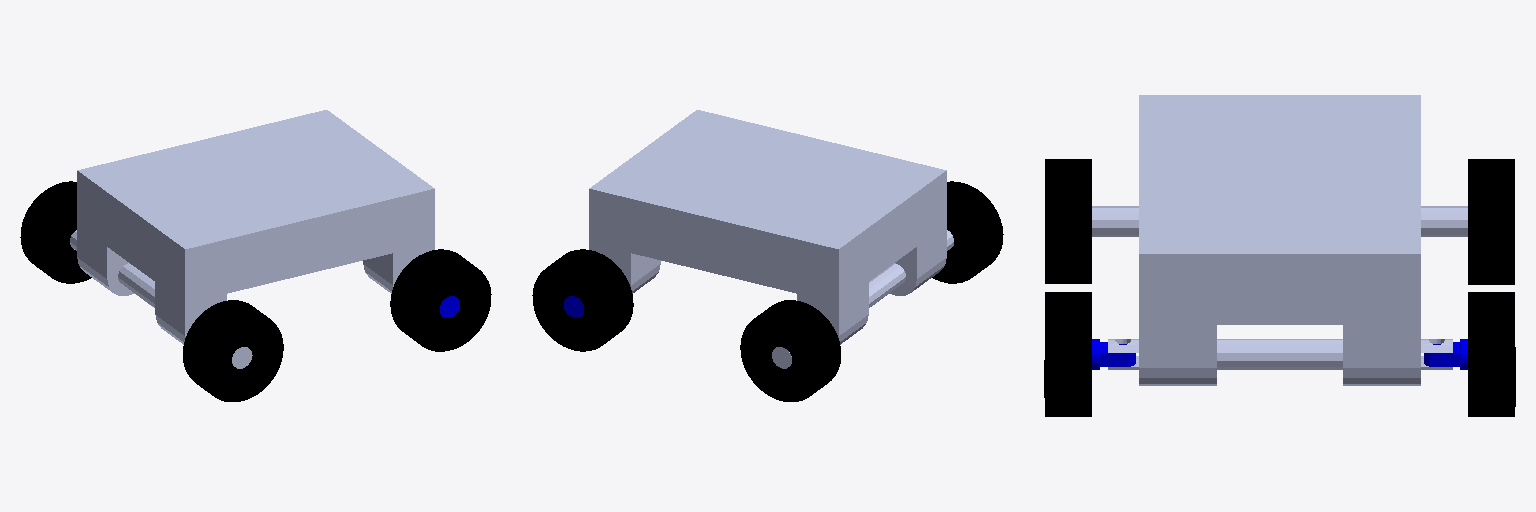
robot.urdf — simple_car_1:
<?xml version="1.0" encoding="utf-8"?>
<!-- This URDF was automatically created by SolidWorks to URDF Exporter! Originally created by [author] ([email redacted]) 
     Commit Version: 1.6.0-1-g15f4949  Build Version: 1.6.7594.29634
     For more information, please see http://wiki.ros.org/sw_urdf_exporter -->
<robot
  name="simple_car_1">
  <link name="dummy">
  </link>
  <joint name="dummy_joint" type="fixed">
    <parent link="dummy"/>
    <child link="base_link"/>
  </joint>
  <link
    name="base_link">
    <inertial>
      <origin
        xyz="-0.00332460565658627 1.58676196071461E-08 0.041560079075296"
        rpy="0 0 0" />
      <mass
        value="42.8861348655346" />
      <inertia
        ixx="1.00588271538571"
        ixy="-1.46408273025479E-07"
        ixz="-0.0167901751526591"
        iyy="1.73667960585585"
        iyz="5.80765070709865E-08"
        izz="2.43688572871735" />
    </inertial>
    <visual>
      <origin
        xyz="0 0 0"
        rpy="0 0 0" />
      <geometry>
        <mesh
          filename="package://simple_car_1/meshes/base_link.STL" />
      </geometry>
      <material
        name="">
        <color
          rgba="0.792156862745098 0.819607843137255 0.933333333333333 1" />
      </material>
    </visual>
    <collision>
      <origin
        xyz="0 0 0"
        rpy="0 0 0" />
      <geometry>
        <mesh
          filename="package://simple_car_1/meshes/base_link.STL" />
      </geometry>
    </collision>
  </link>
  <link
    name="S_R">
    <inertial>
      <origin
        xyz="0.0683552158020454 0.00119688729774237 -2.83106871279415E-15"
        rpy="0 0 0" />
      <mass
        value="0.225860858102532" />
      <inertia
        ixx="6.78977829710827E-05"
        ixy="-4.82166445850817E-06"
        ixz="-3.09292498343065E-19"
        iyy="0.000343182570643455"
        iyz="-5.50199363756215E-21"
        izz="0.000348044864929136" />
    </inertial>
    <visual>
      <origin
        xyz="0 0 0"
        rpy="0 0 0" />
      <geometry>
        <mesh
          filename="package://simple_car_1/meshes/S_R.STL" />
      </geometry>
      <material
        name="">
        <color
          rgba="0 0 1 1" />
      </material>
    </visual>
    <collision>
      <origin
        xyz="0 0 0"
        rpy="0 0 0" />
      <geometry>
        <mesh
          filename="package://simple_car_1/meshes/S_R.STL" />
      </geometry>
    </collision>
  </link>
  <joint
    name="SR_Joint"
    type="revolute">
    <origin
      xyz="0.254000000000007 -0.254 -0.0762000000000029"
      rpy="0 0 -1.59384943873931" />
    <parent
      link="base_link" />
    <child
      link="S_R" />
    <axis
      xyz="0 0 1" />
    <limit
      lower="-1"
      upper="1"
      effort="1000"
      velocity="1000" />
  </joint>
  <link
    name="Wheel_FR">
    <inertial>
      <origin
        xyz="-0.0011093843075205 0.00109160341947936 0.0380458860342316"
        rpy="0 0 0" />
      <mass
        value="2.31666659443376" />
      <inertia
        ixx="0.00747391772869096"
        ixy="-8.01571740731554E-07"
        ixz="-6.52698636700994E-05"
        iyy="0.00747389182470713"
        iyz="6.42237373359677E-05"
        izz="0.0127026719178023" />
    </inertial>
    <visual>
      <origin
        xyz="0 0 0"
        rpy="0 0 0" />
      <geometry>
        <mesh
          filename="package://simple_car_1/meshes/Wheel_FR.STL" />
      </geometry>
      <material
        name="">
        <color
          rgba="0 0 0 1" />
      </material>
    </visual>
    <collision>
      <origin
        xyz="0 0 0"
        rpy="0 0 0" />
      <geometry>
        <mesh
          filename="package://simple_car_1/meshes/Wheel_FR.STL" />
      </geometry>
    </collision>
  </link>
  <joint
    name="WFR"
    type="continuous">
    <origin
      xyz="0.0508404890096035 0 0"
      rpy="-1.5707963267949 0.777319744318453 -1.5707963267949" />
    <parent
      link="S_R" />
    <child
      link="Wheel_FR" />
    <axis
      xyz="0 0 1" />
  </joint>
  <link
    name="S_L">
    <inertial>
      <origin
        xyz="0.0683656830546928 -3.80399174700896E-05 0"
        rpy="0 0 0" />
      <mass
        value="0.225860858102532" />
      <inertia
        ixx="6.78134417911135E-05"
        ixy="1.53267400130195E-07"
        ixz="4.13476612842137E-22"
        iyy="0.000343266911823424"
        iyz="-4.31100267529608E-23"
        izz="0.000348044864929136" />
    </inertial>
    <visual>
      <origin
        xyz="0 0 0"
        rpy="0 0 0" />
      <geometry>
        <mesh
          filename="package://simple_car_1/meshes/S_L.STL" />
      </geometry>
      <material
        name="">
        <color
          rgba="0 0 1 1" />
      </material>
    </visual>
    <collision>
      <origin
        xyz="0 0 0"
        rpy="0 0 0" />
      <geometry>
        <mesh
          filename="package://simple_car_1/meshes/S_L.STL" />
      </geometry>
    </collision>
  </link>
  <joint
    name="SL_Joint"
    type="revolute">
    <origin
      xyz="0.25399999999996 0.253999999999836 -0.0762"
      rpy="0 0 1.57346784124955" />
    <parent
      link="base_link" />
    <child
      link="S_L" />
    <axis
      xyz="0 0 1" />
    <limit
      lower="-1"
      upper="1"
      effort="1000"
      velocity="1000" />
  </joint>
  <link
    name="Wheel_FL">
    <inertial>
      <origin
        xyz="-2.20509283793691E-06 4.94164054692936E-05 -0.0386664950496765"
        rpy="0 0 0" />
      <mass
        value="2.31666659443376" />
      <inertia
        ixx="0.00747310310354289"
        ixy="-7.21262781980466E-11"
        ixz="1.29754988760008E-07"
        iyy="0.0074731047166833"
        iyz="-2.90782547822008E-06"
        izz="0.0127042736509742" />
    </inertial>
    <visual>
      <origin
        xyz="0 0 0"
        rpy="0 0 0" />
      <geometry>
        <mesh
          filename="package://simple_car_1/meshes/Wheel_FL.STL" />
      </geometry>
      <material
        name="">
        <color
          rgba="0 0 0 1" />
      </material>
    </visual>
    <collision>
      <origin
        xyz="0 0 0"
        rpy="0 0 0" />
      <geometry>
        <mesh
          filename="package://simple_car_1/meshes/Wheel_FL.STL" />
      </geometry>
    </collision>
  </link>
  <joint
    name="WFL"
    type="continuous">
    <origin
      xyz="0.0502334911887114 0 0"
      rpy="-1.57079632679487 1.52620322090237 1.57079632679492" />
    <parent
      link="S_L" />
    <child
      link="Wheel_FL" />
    <axis
      xyz="0 0 1" />
  </joint>
  <link
    name="Wheel_BR">
    <inertial>
      <origin
        xyz="0 0 0.0381000000000001"
        rpy="0 0 0" />
      <mass
        value="2.31666659443376" />
      <inertia
        ixx="0.00747310310032443"
        ixy="-4.33680868994202E-19"
        ixz="1.52641837812297E-19"
        iyy="0.00747310310032443"
        iyz="-3.17947464336863E-20"
        izz="0.0127042752705515" />
    </inertial>
    <visual>
      <origin
        xyz="0 0 0"
        rpy="0 0 0" />
      <geometry>
        <mesh
          filename="package://simple_car_1/meshes/Wheel_BR.STL" />
      </geometry>
      <material
        name="">
        <color
          rgba="0 0 0 1" />
      </material>
    </visual>
    <collision>
      <origin
        xyz="0 0 0"
        rpy="0 0 0" />
      <geometry>
        <mesh
          filename="package://simple_car_1/meshes/Wheel_BR.STL" />
      </geometry>
    </collision>
  </link>
  <joint
    name="WBR"
    type="continuous">
    <origin
      xyz="-0.254 -0.3048 -0.0762000000000036"
      rpy="1.5707963267949 -1.28782237474481 0" />
    <parent
      link="base_link" />
    <child
      link="Wheel_BR" />
    <axis
      xyz="0 0 1" />
  </joint>
  <link
    name="Wheel_BL">
    <inertial>
      <origin
        xyz="-1.11022302462516E-16 2.77555756156289E-17 0.0381"
        rpy="0 0 0" />
      <mass
        value="2.31666659443376" />
      <inertia
        ixx="0.00747310310032442"
        ixy="2.71050543121376E-20"
        ixz="2.75908916846999E-19"
        iyy="0.00747310310032442"
        iyz="-2.95060764470901E-21"
        izz="0.0127042752705515" />
    </inertial>
    <visual>
      <origin
        xyz="0 0 0"
        rpy="0 0 0" />
      <geometry>
        <mesh
          filename="package://simple_car_1/meshes/Wheel_BL.STL" />
      </geometry>
      <material
        name="">
        <color
          rgba="0 0 0 1" />
      </material>
    </visual>
    <collision>
      <origin
        xyz="0 0 0"
        rpy="0 0 0" />
      <geometry>
        <mesh
          filename="package://simple_car_1/meshes/Wheel_BL.STL" />
      </geometry>
    </collision>
  </link>
  <joint
    name="WBL"
    type="continuous">
    <origin
      xyz="-0.254 0.381 -0.0762000000000034"
      rpy="-1.5707963267949 1.51907124574579 3.14159265358979" />
    <parent
      link="base_link" />
    <child
      link="Wheel_BL" />
    <axis
      xyz="0 0 1" />
  </joint>
  <transmission name="RWD_Right">
    <type>transmission_interface/SimpleTransmission</type>
    <joint name="WBR">
      <hardwareInterface>hardware_interface/VelocityJointInterface</hardwareInterface>
    </joint>
    <actuator name="RWD_Right_Motor">
      <mechanicalReduction>50</mechanicalReduction>
      <hardwareInterface>hardware_interface/VelocityJointInterface</hardwareInterface>
    </actuator>
  </transmission>
  <transmission name="RWD_Left">
    <type>transmission_interface/SimpleTransmission</type>
    <joint name="WBL">
      <hardwareInterface>hardware_interface/VelocityJointInterface</hardwareInterface>
    </joint>
    <actuator name="RWD_Left_Motor">
      <mechanicalReduction>50</mechanicalReduction>
      <hardwareInterface>hardware_interface/VelocityJointInterface</hardwareInterface>
    </actuator>
  </transmission>
  <transmission name="FD_R">
    <type>transmission_interface/SimpleTransmission</type>
    <joint name="WFR">
      <hardwareInterface>hardware_interface/EffortJointInterface</hardwareInterface>
    </joint>
    <actuator name="FD_R_Motor">
      <mechanicalReduction>1</mechanicalReduction>
      <hardwareInterface>hardware_interface/EffortJointInterface</hardwareInterface>
    </actuator>
  </transmission>
  <transmission name="FD_L">
    <type>transmission_interface/SimpleTransmission</type>
    <joint name="WFL">
      <hardwareInterface>hardware_interface/EffortJointInterface</hardwareInterface>
    </joint>
    <actuator name="FD_L_Motor">
      <mechanicalReduction>1</mechanicalReduction>
      <hardwareInterface>hardware_interface/EffortJointInterface</hardwareInterface>
    </actuator>
  </transmission>
  <transmission name="Steer_Left">
    <type>transmission_interface/SimpleTransmission</type>
    <joint name="SL_Joint">
      <hardwareInterface>hardware_interface/PositionJointInterface</hardwareInterface>
    </joint>
    <actuator name="SL_Motor">
      <mechanicalReduction>50</mechanicalReduction>
      <hardwareInterface>hardware_interface/PositionJointInterface</hardwareInterface>
    </actuator>
  </transmission>
  <transmission name="Steer_Right">
    <type>transmission_interface/SimpleTransmission</type>
    <joint name="SR_Joint">
      <hardwareInterface>hardware_interface/PositionJointInterface</hardwareInterface>
    </joint>
    <actuator name="SR_Motor">
      <mechanicalReduction>50</mechanicalReduction>
      <hardwareInterface>hardware_interface/PositionJointInterface</hardwareInterface>
    </actuator>
  </transmission>
</robot>

--- Render facts (derived) ---
Views: 3 orthographic renders of the robot side by side, from view 1: azimuth 30°, elevation 25°; view 2: azimuth 150°, elevation 25°; view 3: azimuth 270°, elevation 25°.
Model simple_car_1 with 8 links and 7 joints (2 revolute, 4 continuous, 1 fixed), rooted at dummy, posed all joints at 0.
Visible links, largest first — view 1: base_link, Wheel_FR, Wheel_BR, Wheel_BL; view 2: base_link, Wheel_BL, Wheel_FL, Wheel_BR; view 3: base_link, Wheel_FL, Wheel_BL, Wheel_FR, Wheel_BR, S_R, S_L.
Link boxes in pixels (x1,y1,x2,y2): base_link: (70, 110, 434, 368); Wheel_FR: (390, 249, 491, 351); Wheel_BR: (183, 300, 283, 401); Wheel_BL: (20, 181, 91, 283); base_link: (589, 110, 953, 368); Wheel_BL: (740, 300, 840, 401); Wheel_FL: (532, 249, 633, 351); Wheel_BR: (932, 181, 1003, 283); base_link: (1092, 95, 1467, 385); Wheel_FL: (1468, 292, 1515, 416); Wheel_BL: (1468, 159, 1514, 284); Wheel_FR: (1044, 292, 1091, 416); Wheel_BR: (1045, 159, 1091, 283); S_R: (1092, 339, 1135, 369); S_L: (1424, 339, 1467, 369).
Size in the robot's own frame: 0.711 by 0.7628 by 0.3048 metres.
Meshes: 7 distinct files referenced, 7 mesh visuals loaded (7 binary STL).